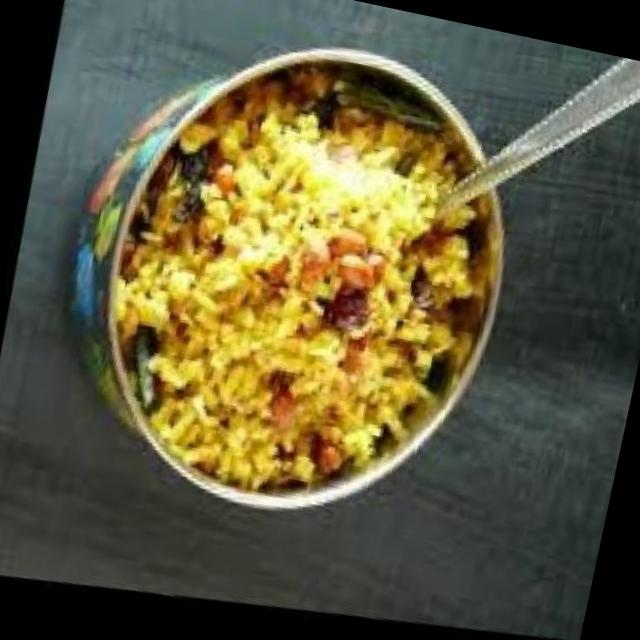poha: (66, 24, 525, 546)
